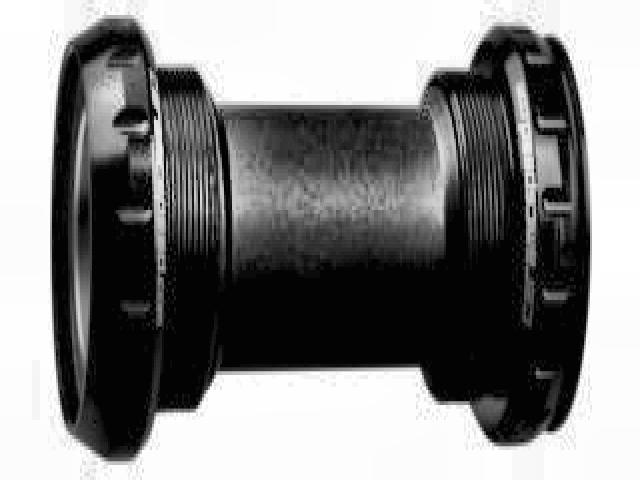bottom_bracket: (49, 14, 592, 464)
